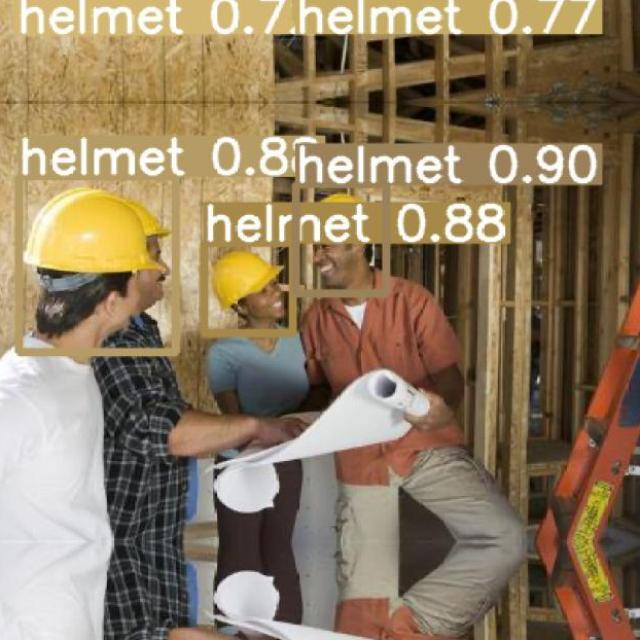helmet: (22, 187, 166, 274), (211, 250, 285, 311)
